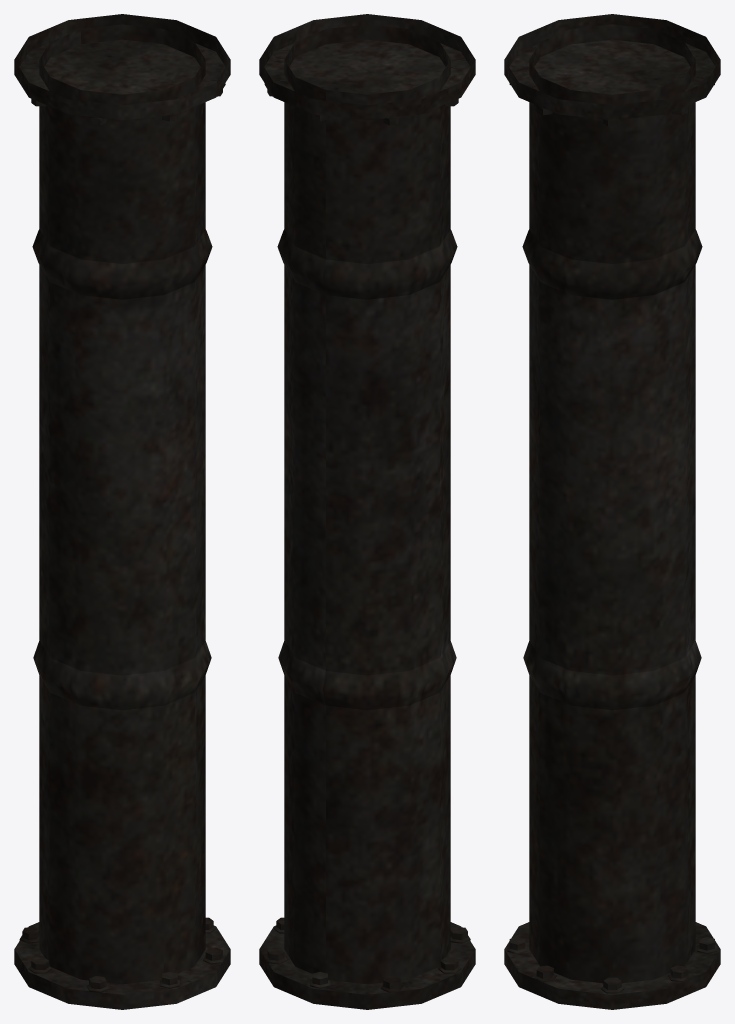
The model's file is pipe_1_short.fbx.
3 renders of one model, left to right at view 1: azimuth 30°, elevation 25°; view 2: azimuth 150°, elevation 25°; view 3: azimuth 270°, elevation 25°, orthographic.
Visible parts, largest first — view 1: pipe_1_short; view 2: pipe_1_short; view 3: pipe_1_short.
Part boxes in pixels (x1=…): pipe_1_short: x1=14, y1=14, x2=230, y2=1009; pipe_1_short: x1=259, y1=14, x2=475, y2=1009; pipe_1_short: x1=504, y1=14, x2=720, y2=1009.
Bounding box in the file's own units: 0.26 × 0.26 × 1.2.
